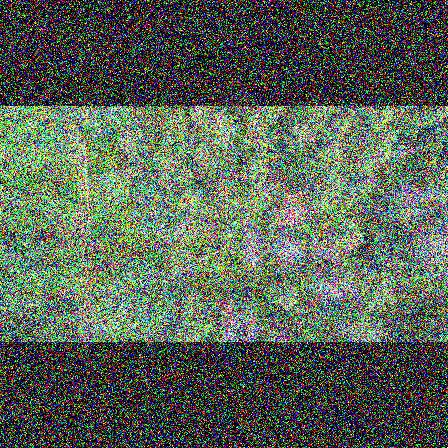Dead: (385, 226, 448, 257), (296, 266, 346, 301), (319, 265, 366, 298), (336, 318, 392, 342), (378, 188, 447, 206), (212, 303, 241, 342), (267, 231, 301, 263), (240, 299, 265, 342), (378, 143, 420, 165), (237, 225, 260, 262)
